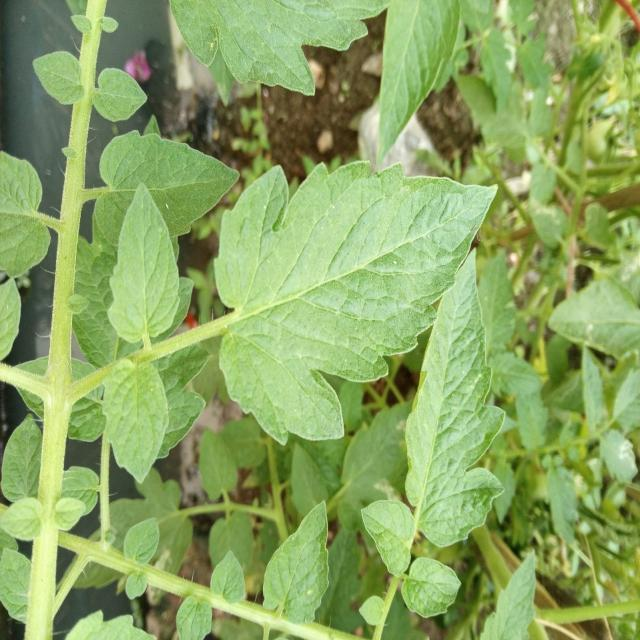Healthy: (135, 71, 516, 472), (404, 252, 506, 547), (375, 0, 461, 165), (106, 183, 184, 345), (97, 356, 176, 485), (262, 502, 329, 623), (357, 489, 434, 578), (392, 550, 467, 626)
